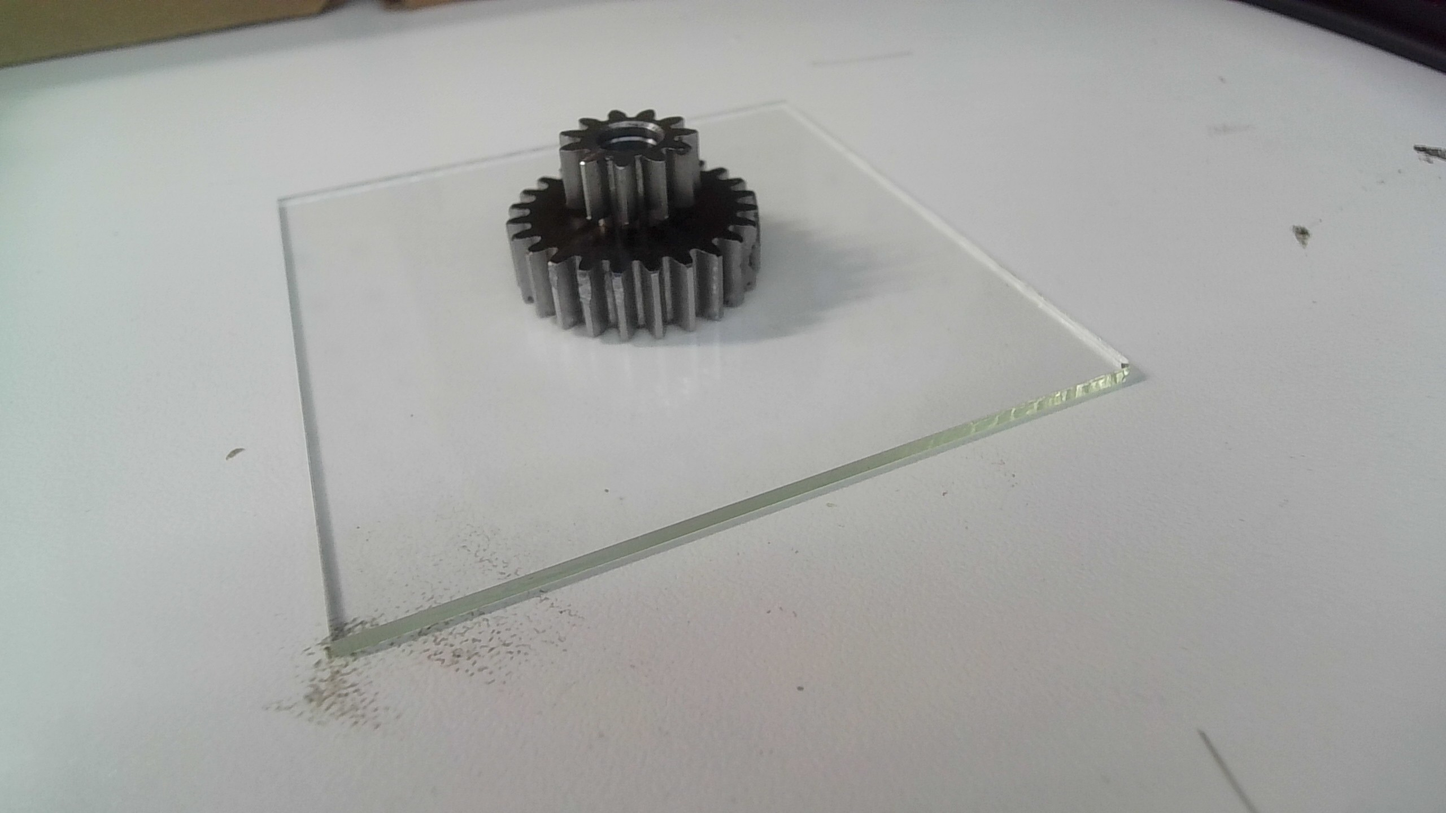gear: (499, 108, 769, 346)
